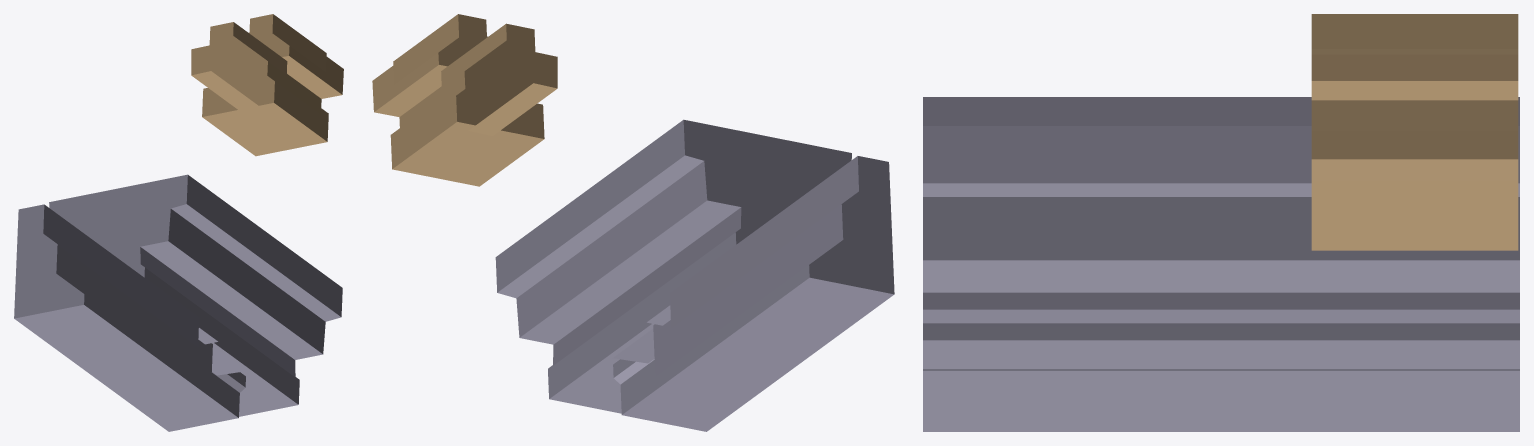
The picture shows the model from 3 angles, left to right: view 1: azimuth 30°, elevation 25°; view 2: azimuth 150°, elevation 25°; view 3: azimuth 270°, elevation 25°; orthographic projection. The views are drawn at different scales.
Visible parts, largest first — view 1: 0_3_2_0_1_0_3_0; view 2: 0_3_2_0_1_0_3_0; view 3: 0_3_2_0_1_0_3_0.
Boxes of the visible parts, x1,y1,x2,y2 form: 0_3_2_0_1_0_3_0: [14, 14, 343, 431]; 0_3_2_0_1_0_3_0: [372, 14, 894, 431]; 0_3_2_0_1_0_3_0: [923, 14, 1519, 431].
Size of the model in its own units: 80.23 by 69.24 by 78.
